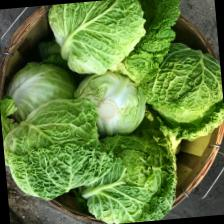cabbage: (0, 93, 115, 204), (75, 128, 180, 224), (136, 37, 224, 145), (45, 0, 149, 80), (70, 66, 148, 142), (0, 56, 79, 130)
